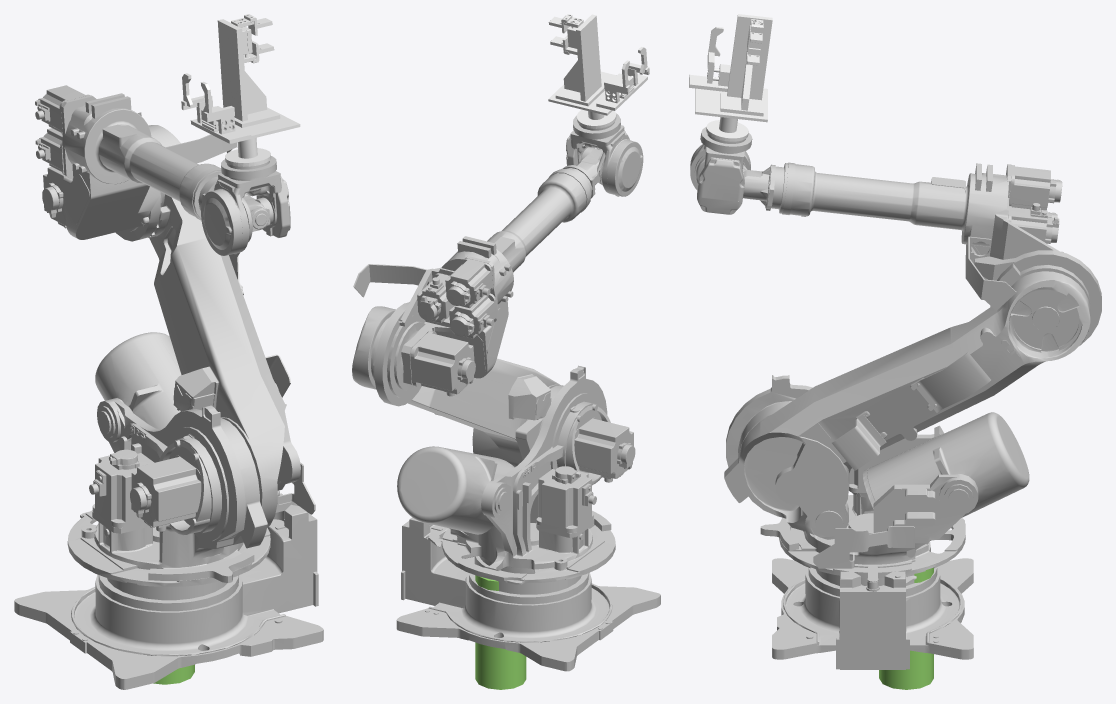
3 views of the same model, side by side, from view 1: azimuth 30°, elevation 25°; view 2: azimuth 150°, elevation 25°; view 3: azimuth 270°, elevation 25° (orthographic). The views are drawn at different scales.
Visible parts, largest first — view 1: N_2082, N_2192, N_1833, N_1358, N_2580, N_1590, N_2348; view 2: N_2082, N_1358, N_2192, N_1833, N_2580, N_1590, visualJoint, N_2348; view 3: N_1833, N_2082, N_1358, N_2192, N_2580, N_1590, N_2348, visualJoint.
Boxes of the visible parts, x1=… form: N_2082: x1=67, y1=332, x2=315, y2=586; N_2192: x1=14, y1=490, x2=323, y2=689; N_1833: x1=148, y1=125, x2=300, y2=527; N_1358: x1=35, y1=85, x2=236, y2=241; N_2580: x1=181, y1=14, x2=300, y2=166; N_1590: x1=201, y1=156, x2=290, y2=258; N_2348: x1=193, y1=171, x2=273, y2=241; N_2082: x1=397, y1=365, x2=635, y2=584; N_1358: x1=353, y1=169, x2=590, y2=406; N_2192: x1=396, y1=517, x2=660, y2=671; N_1833: x1=352, y1=306, x2=560, y2=467; N_2580: x1=548, y1=14, x2=649, y2=128; N_1590: x1=566, y1=113, x2=643, y2=196; visualJoint: x1=475, y1=575, x2=526, y2=689; N_2348: x1=561, y1=147, x2=605, y2=201; N_1833: x1=738, y1=271, x2=1090, y2=539; N_2082: x1=724, y1=375, x2=1029, y2=578; N_1358: x1=782, y1=162, x2=1101, y2=345; N_2192: x1=772, y1=541, x2=973, y2=669; N_2580: x1=689, y1=14, x2=772, y2=141; N_1590: x1=690, y1=126, x2=752, y2=214; N_2348: x1=696, y1=157, x2=787, y2=213; visualJoint: x1=879, y1=568, x2=933, y2=689.
Size of the model in its own units: 1.34 by 3.96 by 2.26.
